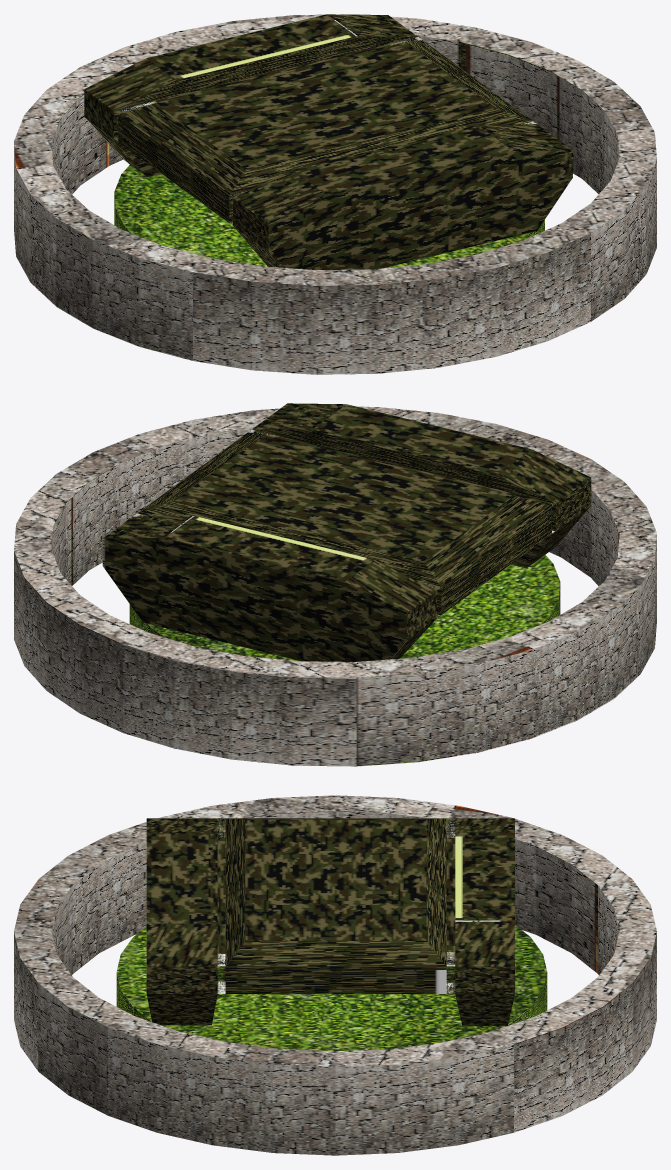
The model's file is tower-tanque-base-rock.fbx.
3 renders of one model, top to bottom at view 1: azimuth 30°, elevation 25°; view 2: azimuth 150°, elevation 25°; view 3: azimuth 270°, elevation 25°, orthographic.
Visible parts, largest first — view 1: Cylinder.002; view 2: Cylinder.002; view 3: Cylinder.002.
Part boxes in pixels (x1,y1,x2,y2): Cylinder.002: (14, 14, 656, 374); Cylinder.002: (14, 403, 656, 766); Cylinder.002: (14, 795, 656, 1155).
Bounding box in the file's own units: 1081 × 257 × 1081.
